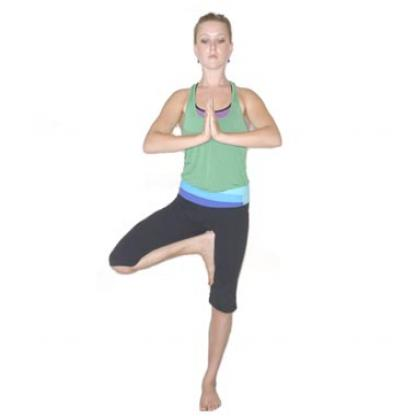tree: (104, 4, 289, 416)
